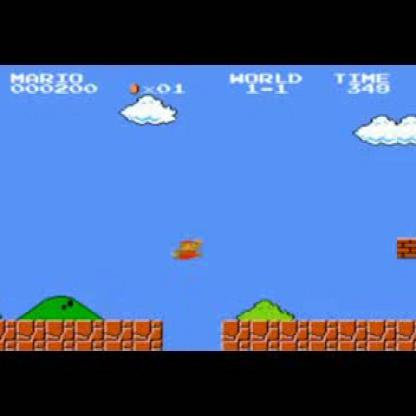Hoyo: (155, 317, 226, 352)
